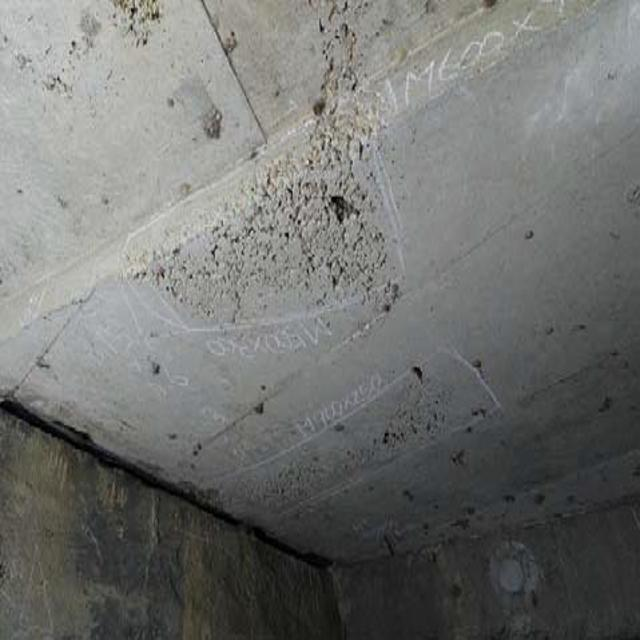spalling: (136, 85, 421, 332)
